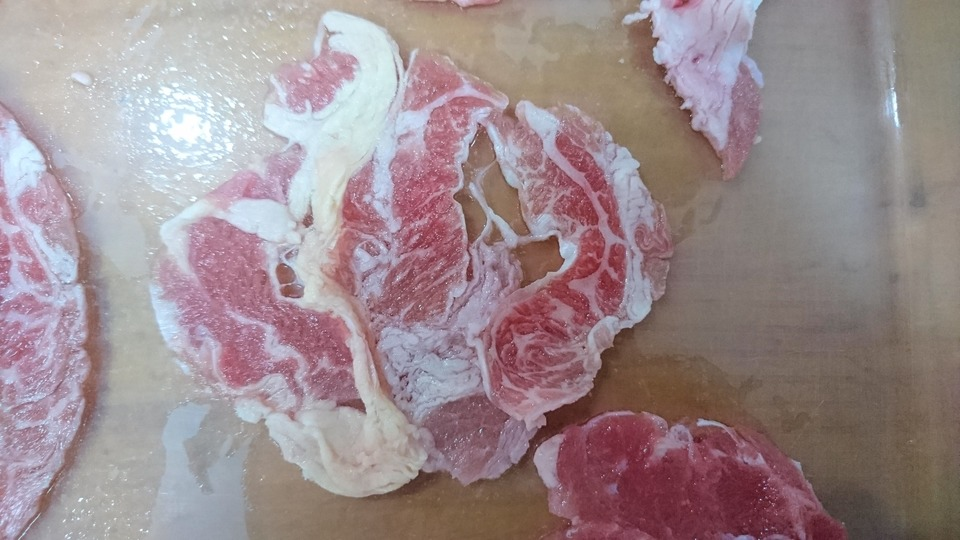restructured meat: (184, 22, 636, 459), (530, 408, 843, 540)
